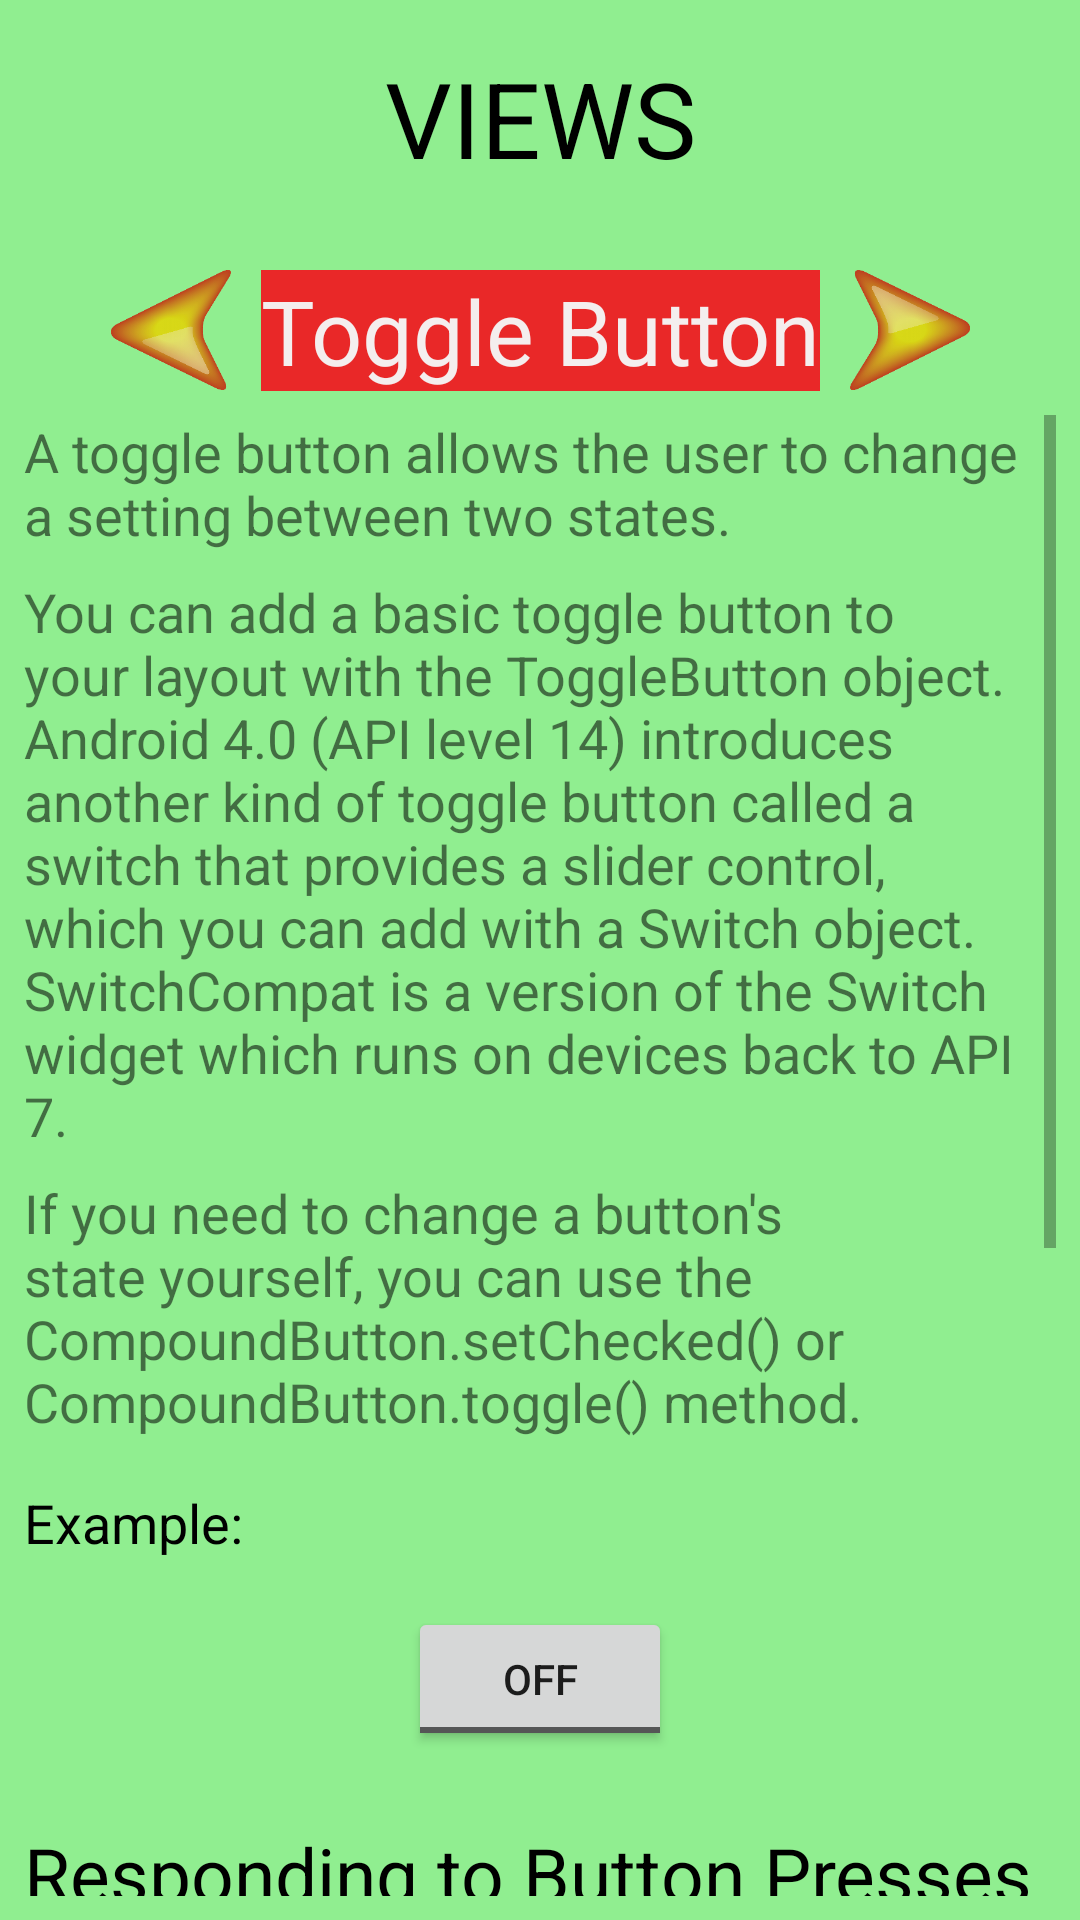

Locate icon controls on the screen. Image size 1080x1920, boxes as bbox=[x1, y1, x2, y2].
next: bbox=[850, 270, 970, 390]
previous: bbox=[111, 270, 231, 390]
